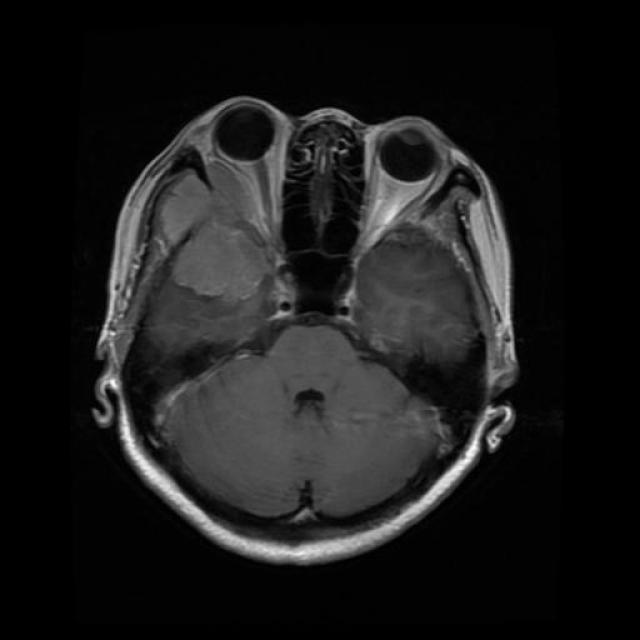meningioma: (164, 178, 270, 306)
